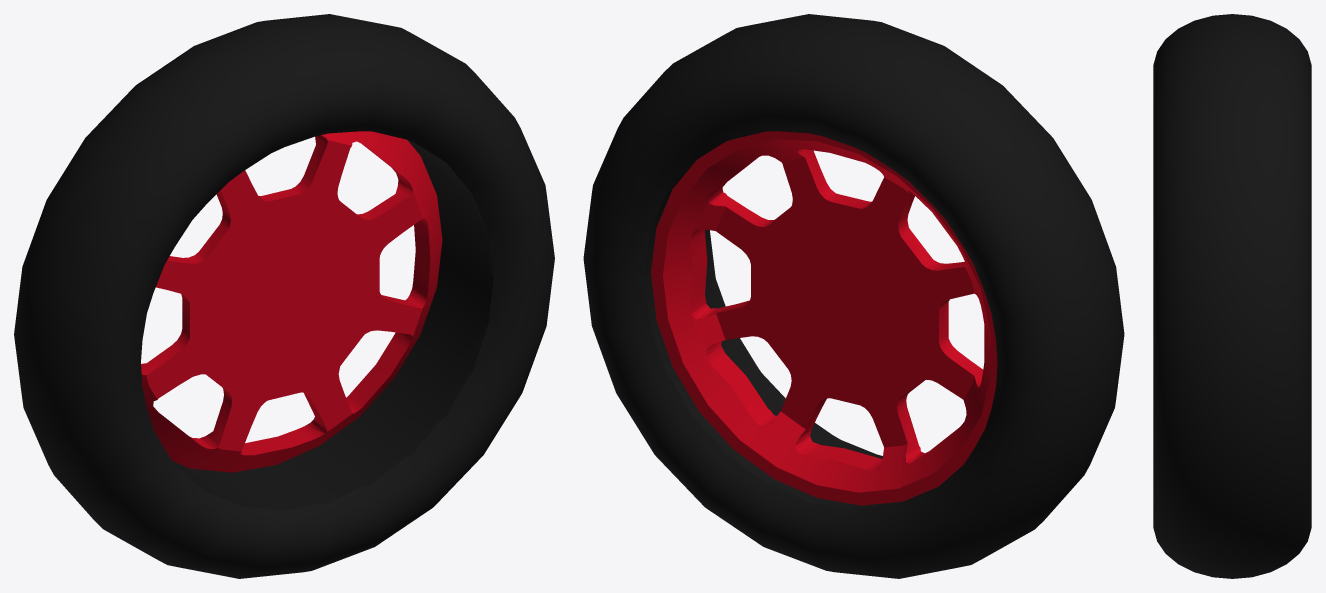
The model's file is leftBackWheel.DAE.
3 renders of one model, left to right at view 1: azimuth 30°, elevation 25°; view 2: azimuth 150°, elevation 25°; view 3: azimuth 270°, elevation 25°, orthographic. The views are drawn at different scales.
Visible parts, largest first — view 1: Torus10, Cylinder98; view 2: Torus10, Cylinder98; view 3: Torus10.
Boxes of the visible parts, x1,y1,x2,y2 form: Torus10: (14,14,554,578); Cylinder98: (141,131,442,472); Torus10: (583,14,1124,578); Cylinder98: (651,131,997,505); Torus10: (1153,14,1311,578).
Size of the model in its own units: 24.04 by 6.7 by 24.04.
